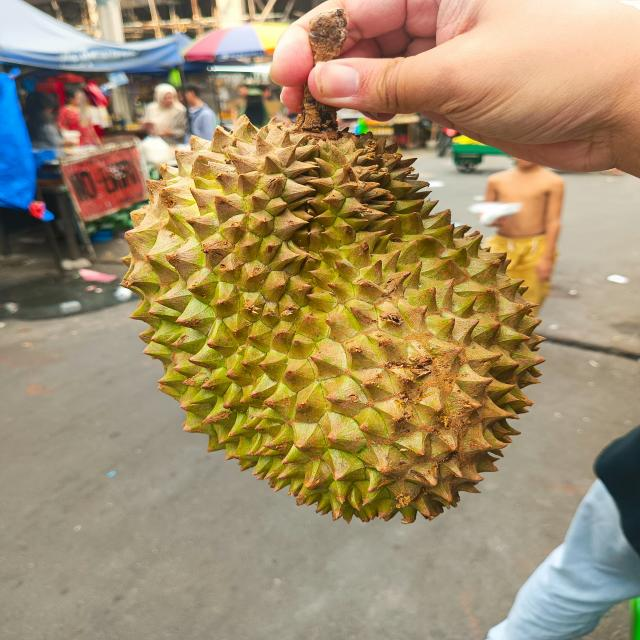mature: (124, 121, 544, 523)
